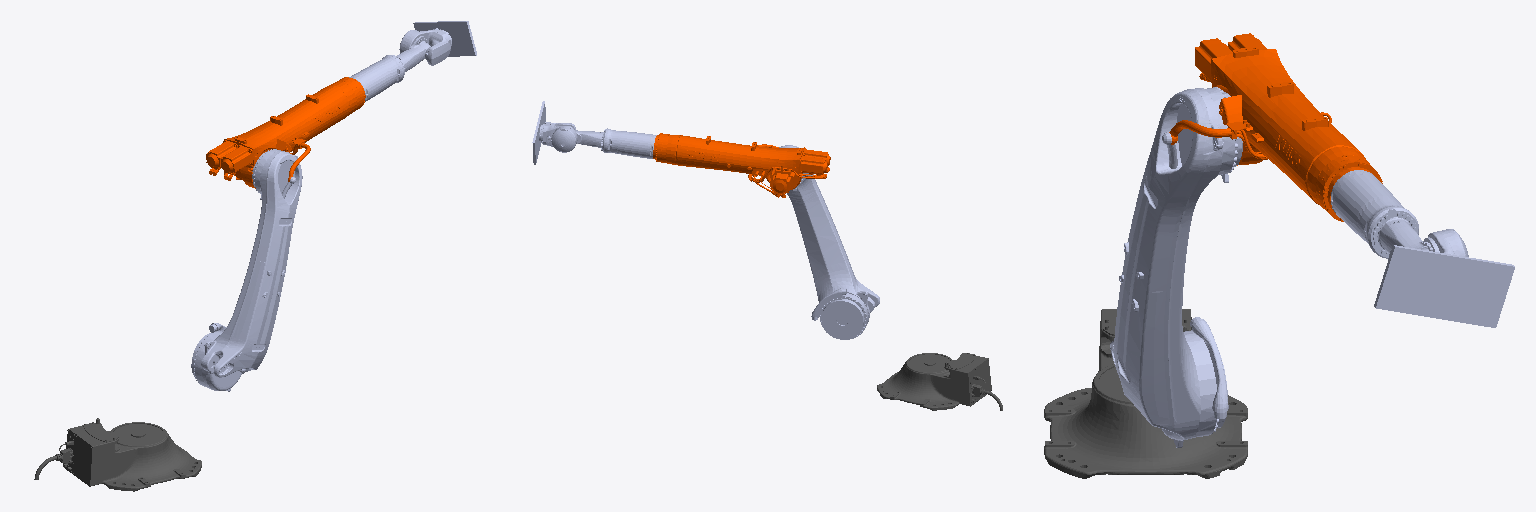
robot.urdf — KUKA_Robots:
<?xml version="1.0" ?>
<!-- =================================================================================== -->
<!-- |    This document was autogenerated by xacro from KUKA_robots.xacro              | -->
<!-- |    EDITING THIS FILE BY HAND IS NOT RECOMMENDED                                 | -->
<!-- =================================================================================== -->
<robot name="KUKA_Robots">
  <!-- undo these when needed -->
  <!-- <xacro:arg name="left_initial_positions_file" default="$(find robot_urdf)/config/robot_1_initial_positions.yaml"/>
    <xacro:arg name="right_initial_positions_file" default="$(find robot_urdf)/config/robot_2_initial_positions.yaml"/> -->
  <!-- Root link -->
  <link name="world"/>
  <!-- [TODO]: understand loading from a config file at a later time-->
  <!-- xacro:property name="initial_positions" value="${xacro.load_yaml(initial_positions_file)['initial_positions']}"/ -->
  <ros2_control name="robot1_KUKA_robot" type="system">
    <hardware>
      <!-- <plugin>mock_components/GenericSystem</plugin> -->
      <plugin>gz_ros2_control/GazeboSimSystem</plugin>
    </hardware>
    <joint name="robot1_jnt_Base_to_Ax1">
      <command_interface name="position"/>
      <state_interface name="position">
        <!-- <param name="initial_value">${initial_positions['panda_joint1']}</param> -->
        <param name="initial_value">0.0</param>
      </state_interface>
      <state_interface name="velocity">
        <param name="initial_value">0.0</param>
      </state_interface>
    </joint>
    <joint name="robot1_jnt_Ax1_to_Ax2">
      <command_interface name="position"/>
      <state_interface name="position">
        <!-- <param name="initial_value">${initial_positions['panda_joint1']}</param> -->
        <param name="initial_value">0.0</param>
      </state_interface>
      <state_interface name="velocity">
        <param name="initial_value">0.0</param>
      </state_interface>
    </joint>
    <joint name="robot1_jnt_Ax2_to_Ax3">
      <command_interface name="position"/>
      <state_interface name="position">
        <!-- <param name="initial_value">${initial_positions['panda_joint1']}</param> -->
        <param name="initial_value">0.0</param>
      </state_interface>
      <state_interface name="velocity">
        <param name="initial_value">0.0</param>
      </state_interface>
    </joint>
    <joint name="robot1_jnt_Ax3_to_Ax4">
      <command_interface name="position"/>
      <state_interface name="position">
        <!-- <param name="initial_value">${initial_positions['panda_joint1']}</param> -->
        <param name="initial_value">0.0</param>
      </state_interface>
      <state_interface name="velocity">
        <param name="initial_value">0.0</param>
      </state_interface>
    </joint>
    <joint name="robot1_jnt_Ax4_to_Ax5">
      <command_interface name="position"/>
      <state_interface name="position">
        <!-- <param name="initial_value">${initial_positions['panda_joint1']}</param> -->
        <param name="initial_value">0.0</param>
      </state_interface>
      <state_interface name="velocity">
        <param name="initial_value">0.0</param>
      </state_interface>
    </joint>
    <joint name="robot1_jnt_Ax5_to_Ax6">
      <command_interface name="position"/>
      <state_interface name="position">
        <!-- <param name="initial_value">${initial_positions['panda_joint1']}</param> -->
        <param name="initial_value">0.0</param>
      </state_interface>
      <state_interface name="velocity">
        <param name="initial_value">0.0</param>
      </state_interface>
    </joint>
  </ros2_control>
  <!-- Gazebo control config goes here -->
  <gazebo>
    <plugin filename="libgz_ros2_control-system.so" name="gz_ros2_control::GazeboSimROS2ControlPlugin">
      <parameters>/home/mskrishna/ros2_ws/install/robot_urdf/share/robot_urdf/config/KUKA_controller.yaml</parameters>
      <ros>
        <remapping>/controller_manager/robot_description:=/robot_description</remapping>
      </ros>
    </plugin>
  </gazebo>
  <joint name="robot1_jnt_world_to_base_link" type="fixed">
    <origin rpy="-1.5708 0 0" xyz="0 -2.5 0"/>
    <!-- origin xyz="0 0 0" rpy="-1.5708 0 0" / -->
    <parent link="world"/>
    <child link="robot1_base_link"/>
  </joint>
  <link name="robot1_base_link">
    <!-- inertial -->
    <inertial>
      <origin rpy="0 0 0" xyz="-0.11981 0.00095475 0.10543"/>
      <mass value="69.419"/>
      <inertia ixx="1.5959" ixy="0.0085722" ixz="0.36667" iyy="3.5014" iyz="-0.0021187" izz="4.272"/>
    </inertial>
    <!-- visual -->
    <visual>
      <origin rpy="0 0 0" xyz="0 0 0"/>
      <geometry>
        <mesh filename="package://robot_urdf/meshes/base_link.STL"/>
      </geometry>
      <material name="">
        <color rgba="0.4 0.4 0.4 1"/>
      </material>
    </visual>
    <!-- collision -->
    <collision>
      <origin rpy="0 0 0" xyz="0 0 0"/>
      <geometry>
        <mesh filename="package://robot_urdf/meshes/base_link.STL"/>
      </geometry>
    </collision>
  </link>
  <link name="robot1_Ax1">
    <inertial>
      <origin rpy="0 0 0" xyz="0.21322 0.0074862 0.26077"/>
      <mass value="112.66"/>
      <inertia ixx="2.9338" ixy="-0.80384" ixz="-1.3414" iyy="9.9259" iyz="-0.19044" izz="9.4935"/>
    </inertial>
    <visual>
      <origin rpy="0 0 0" xyz="0 0 0"/>
      <geometry>
        <mesh filename="package://robot_urdf/meshes/Ax1.STL"/>
      </geometry>
      <material name="">
        <color rgba="0.4 0.4 0.4 1"/>
      </material>
    </visual>
    <collision>
      <origin rpy="0 0 0" xyz="0 0 0"/>
      <geometry>
        <mesh filename="package://robot_urdf/meshes/Ax1.STL"/>
      </geometry>
    </collision>
  </link>
  <joint name="robot1_jnt_Base_to_Ax1" type="revolute">
    <origin rpy="1.5708 -0.34738 0" xyz="0 -0.21559 0"/>
    <parent link="robot1_base_link"/>
    <child link="robot1_Ax1"/>
    <axis xyz="0 0 1"/>
    <limit effort="100" lower="-1.04719755" upper="+1.04719755" velocity="1"/>
  </joint>
  <link name="robot1_Ax2">
    <inertial>
      <origin rpy="0 0 0" xyz="-0.136832656859279 0.0144078767700652 0.32155414214809"/>
      <mass value="276.998100922925"/>
      <inertia ixx="318.852709801833" ixy="0.776560972222151" ixz="-176.545924815262" iyy="440.992384902426" iyz="2.83426651703951" izz="130.06696817012"/>
    </inertial>
    <visual>
      <origin rpy="0 0 0" xyz="0 0 0"/>
      <geometry>
        <mesh filename="package://robot_urdf/meshes/Ax2.STL"/>
      </geometry>
      <material name="">
        <color rgba="0.792156862745098 0.819607843137255 0.933333333333333 1"/>
      </material>
    </visual>
    <collision>
      <origin rpy="0 0 0" xyz="0 0 0"/>
      <geometry>
        <mesh filename="package://robot_urdf/meshes/Ax2.STL"/>
      </geometry>
    </collision>
  </link>
  <joint name="robot1_jnt_Ax1_to_Ax2" type="revolute">
    <origin rpy="0 0.36697 0" xyz="0.73 0 0.32441"/>
    <parent link="robot1_Ax1"/>
    <child link="robot1_Ax2"/>
    <axis xyz="0 1 0"/>
    <limit effort="100" lower="-1.04719755" upper="+1.04719755" velocity="1"/>
  </joint>
  <link name="robot1_Ax3">
    <inertial>
      <origin rpy="0 0 0" xyz="0.372143478673027 -4.17118121699422E-05 0.106533438863164"/>
      <mass value="67.8633341977998"/>
      <inertia ixx="0.581052848871638" ixy="-0.13715563051977" ixz="-0.0109016166060049" iyy="6.85816958909181" iyz="-0.0271578725085325" izz="6.89752904665077"/>
    </inertial>
    <visual>
      <origin rpy="0 0 0" xyz="0 0 0"/>
      <geometry>
        <mesh filename="package://robot_urdf/meshes/Ax3.STL"/>
      </geometry>
      <material name="">
        <color rgba="1 0.4 0 1"/>
      </material>
    </visual>
    <collision>
      <origin rpy="0 0 0" xyz="0 0 0"/>
      <geometry>
        <mesh filename="package://robot_urdf/meshes/Ax3.STL"/>
      </geometry>
    </collision>
  </link>
  <joint name="robot1_jnt_Ax2_to_Ax3" type="revolute">
    <origin rpy="0 -0.42829 0" xyz="0 0 1.35"/>
    <parent link="robot1_Ax2"/>
    <child link="robot1_Ax3"/>
    <axis xyz="0 1 0"/>
    <limit effort="100" lower="-1.04719755" upper="+1.04719755" velocity="1"/>
  </joint>
  <link name="robot1_Ax4">
    <inertial>
      <origin rpy="0 0 0" xyz="0.392856388545806 0.00132042157247414 -4.55709173508012E-07"/>
      <mass value="17.1103007358543"/>
      <inertia ixx="0.0705705137136241" ixy="-0.010191314944453" ixz="8.14143746615133E-06" iyy="0.798703820206423" iyz="-7.86396144529522E-07" izz="0.798093040071735"/>
    </inertial>
    <visual>
      <origin rpy="0 0 0" xyz="0 0 0"/>
      <geometry>
        <mesh filename="package://robot_urdf/meshes/Ax4.STL"/>
      </geometry>
      <material name="">
        <color rgba="0.792156862745098 0.819607843137255 0.933333333333333 1"/>
      </material>
    </visual>
    <collision>
      <origin rpy="0 0 0" xyz="0 0 0"/>
      <geometry>
        <mesh filename="package://robot_urdf/meshes/Ax4.STL"/>
      </geometry>
    </collision>
  </link>
  <joint name="robot1_jnt_Ax3_to_Ax4" type="revolute">
    <origin rpy="0.083358 0 0" xyz="0.9909 0 0.115"/>
    <parent link="robot1_Ax3"/>
    <child link="robot1_Ax4"/>
    <axis xyz="1 0 0"/>
    <limit effort="100" lower="-1.04719755" upper="+1.04719755" velocity="1"/>
  </joint>
  <link name="robot1_Ax5">
    <inertial>
      <origin rpy="0 0 0" xyz="0.051767116658477 0.0338271406479826 -4.43843200792493E-05"/>
      <mass value="6.83021133378002"/>
      <inertia ixx="0.0611665262361527" ixy="0.0149901526275177" ixz="1.89494897224055E-05" iyy="0.054041031435701" iyz="3.52407908043246E-05" izz="0.08587461873486"/>
    </inertial>
    <visual>
      <origin rpy="0 0 0" xyz="0 0 0"/>
      <geometry>
        <mesh filename="package://robot_urdf/meshes/Ax5.STL"/>
      </geometry>
      <material name="">
        <color rgba="0.792156862745098 0.819607843137255 0.933333333333333 1"/>
      </material>
    </visual>
    <collision>
      <origin rpy="0 0 0" xyz="0 0 0"/>
      <geometry>
        <mesh filename="package://robot_urdf/meshes/Ax5.STL"/>
      </geometry>
    </collision>
  </link>
  <joint name="robot1_jnt_Ax4_to_Ax5" type="revolute">
    <origin rpy="0 0.043548 0" xyz="0.8291 0 0"/>
    <parent link="robot1_Ax4"/>
    <child link="robot1_Ax5"/>
    <axis xyz="0 1 0"/>
    <limit effort="100" lower="-1.04719755" upper="+1.04719755" velocity="1"/>
  </joint>
  <link name="robot1_Ax6">
    <inertial>
      <origin rpy="0 0 0" xyz="0.075421153011026 -7.40807057847404E-06 5.04801295508894E-05"/>
      <mass value="0.576833152319335"/>
      <inertia ixx="0.00137814989301989" ixy="6.51907434856228E-08" ixz="-2.53894277537053E-07" iyy="0.000767002773596282" iyz="1.31490592791559E-08" izz="0.000764903466159646"/>
    </inertial>
    <visual>
      <origin rpy="0 0 0" xyz="0 0 0"/>
      <geometry>
        <mesh filename="package://robot_urdf/meshes/Ax6.STL"/>
      </geometry>
      <material name="">
        <color rgba="0.792156862745098 0.819607843137255 0.933333333333333 1"/>
      </material>
    </visual>
    <collision>
      <origin rpy="0 0 0" xyz="0 0 0"/>
      <geometry>
        <mesh filename="package://robot_urdf/meshes/Ax6.STL"/>
      </geometry>
    </collision>
  </link>
  <joint name="robot1_jnt_Ax5_to_Ax6" type="revolute">
    <origin rpy="0.051821 0 0" xyz="0.1178 0 0"/>
    <parent link="robot1_Ax5"/>
    <child link="robot1_Ax6"/>
    <axis xyz="1 0 0"/>
    <limit effort="100" lower="-1.04719755" upper="+1.04719755" velocity="1"/>
  </joint>
  <link name="robot1_Tool">
    <inertial>
      <origin rpy="0 0 0" xyz="0.0043843 -0.0089877 0.10702"/>
      <mass value="2.5342"/>
      <inertia ixx="0.052186" ixy="-4.7054E-16" ixz="-2.4194E-16" iyy="0.013124" iyz="-1.2094E-15" izz="0.065131"/>
    </inertial>
    <visual>
      <origin rpy="0 0 0" xyz="0 0 0"/>
      <geometry>
        <mesh filename="package://robot_urdf/meshes/Tool.STL"/>
      </geometry>
      <material name="">
        <color rgba="0.79216 0.81961 0.93333 1"/>
      </material>
    </visual>
    <collision>
      <origin rpy="0 0 0" xyz="0 0 0"/>
      <geometry>
        <mesh filename="package://robot_urdf/meshes/Tool.STL"/>
      </geometry>
    </collision>
  </link>
  <joint name="robot1_FixJnt_Ax6_to_Tool" type="fixed">
    <origin rpy="-1.5708 1.117 -1.5708" xyz="0 0.01 0"/>
    <parent link="robot1_Ax6"/>
    <child link="robot1_Tool"/>
    <axis xyz="0 0 1"/>
    <limit effort="100" lower="-1.04719755" upper="+1.04719755" velocity="1"/>
  </joint>
  <!-- robot2 -->
  <!-- <xacro:KUKA_robot
        name="KUKA_robot"
        prefix="robot2_"
        parent="world">
        <origin xyz="0 2.5 0" rpy="-1.5708 0 -1.5708" />
    </xacro:KUKA_robot> -->
</robot>
<!-- initial_positions_file="$(arg right_initial_positions_file)" -->
<!-- initial_positions_file="$(arg robot1_initial_positions_file)"> -->

--- Facts derived from the render (not from the file) ---
Views: 3 orthographic renders of the robot side by side, from view 1: azimuth 30°, elevation 25°; view 2: azimuth 150°, elevation 25°; view 3: azimuth 270°, elevation 25°.
Robot: KUKA_Robots — 9 links, 8 joints (6 revolute, 2 fixed); root link world; default pose: every joint at zero.
Visible links, largest first — view 1: robot1_Ax2, robot1_base_link, robot1_Ax3, robot1_Ax4, robot1_Tool, robot1_Ax5; view 2: robot1_Ax2, robot1_Ax3, robot1_base_link, robot1_Ax4, robot1_Ax5; view 3: robot1_Ax2, robot1_Ax3, robot1_base_link, robot1_Tool, robot1_Ax4, robot1_Ax5.
Boxes of the visible links, x1,y1,x2,y2 form: robot1_Ax2: (191,149,302,391); robot1_base_link: (34,418,201,491); robot1_Ax3: (206,77,365,188); robot1_Ax4: (349,36,430,101); robot1_Tool: (413,21,476,56); robot1_Ax5: (399,28,451,65); robot1_Ax2: (779,145,879,339); robot1_Ax3: (653,133,830,197); robot1_base_link: (877,353,1002,410); robot1_Ax4: (575,128,656,158); robot1_Ax5: (541,122,577,152); robot1_Ax2: (1110,87,1242,447); robot1_Ax3: (1169,33,1382,221); robot1_base_link: (1044,309,1247,478); robot1_Tool: (1374,245,1514,327); robot1_Ax4: (1331,170,1439,258); robot1_Ax5: (1388,229,1468,259).
Bounding box of the posed robot: 3.91 × 1.75 × 2.24 m (x, y, z).
Meshes: 8 distinct files referenced, 7 mesh visuals loaded (7 binary STL); not drawn: 1 (reference not matched to a file when rendering).
